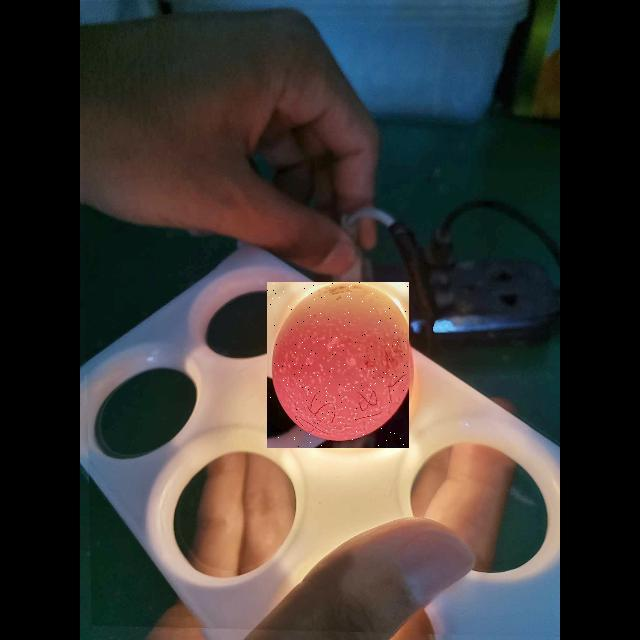Infertile: (267, 282, 409, 448)
